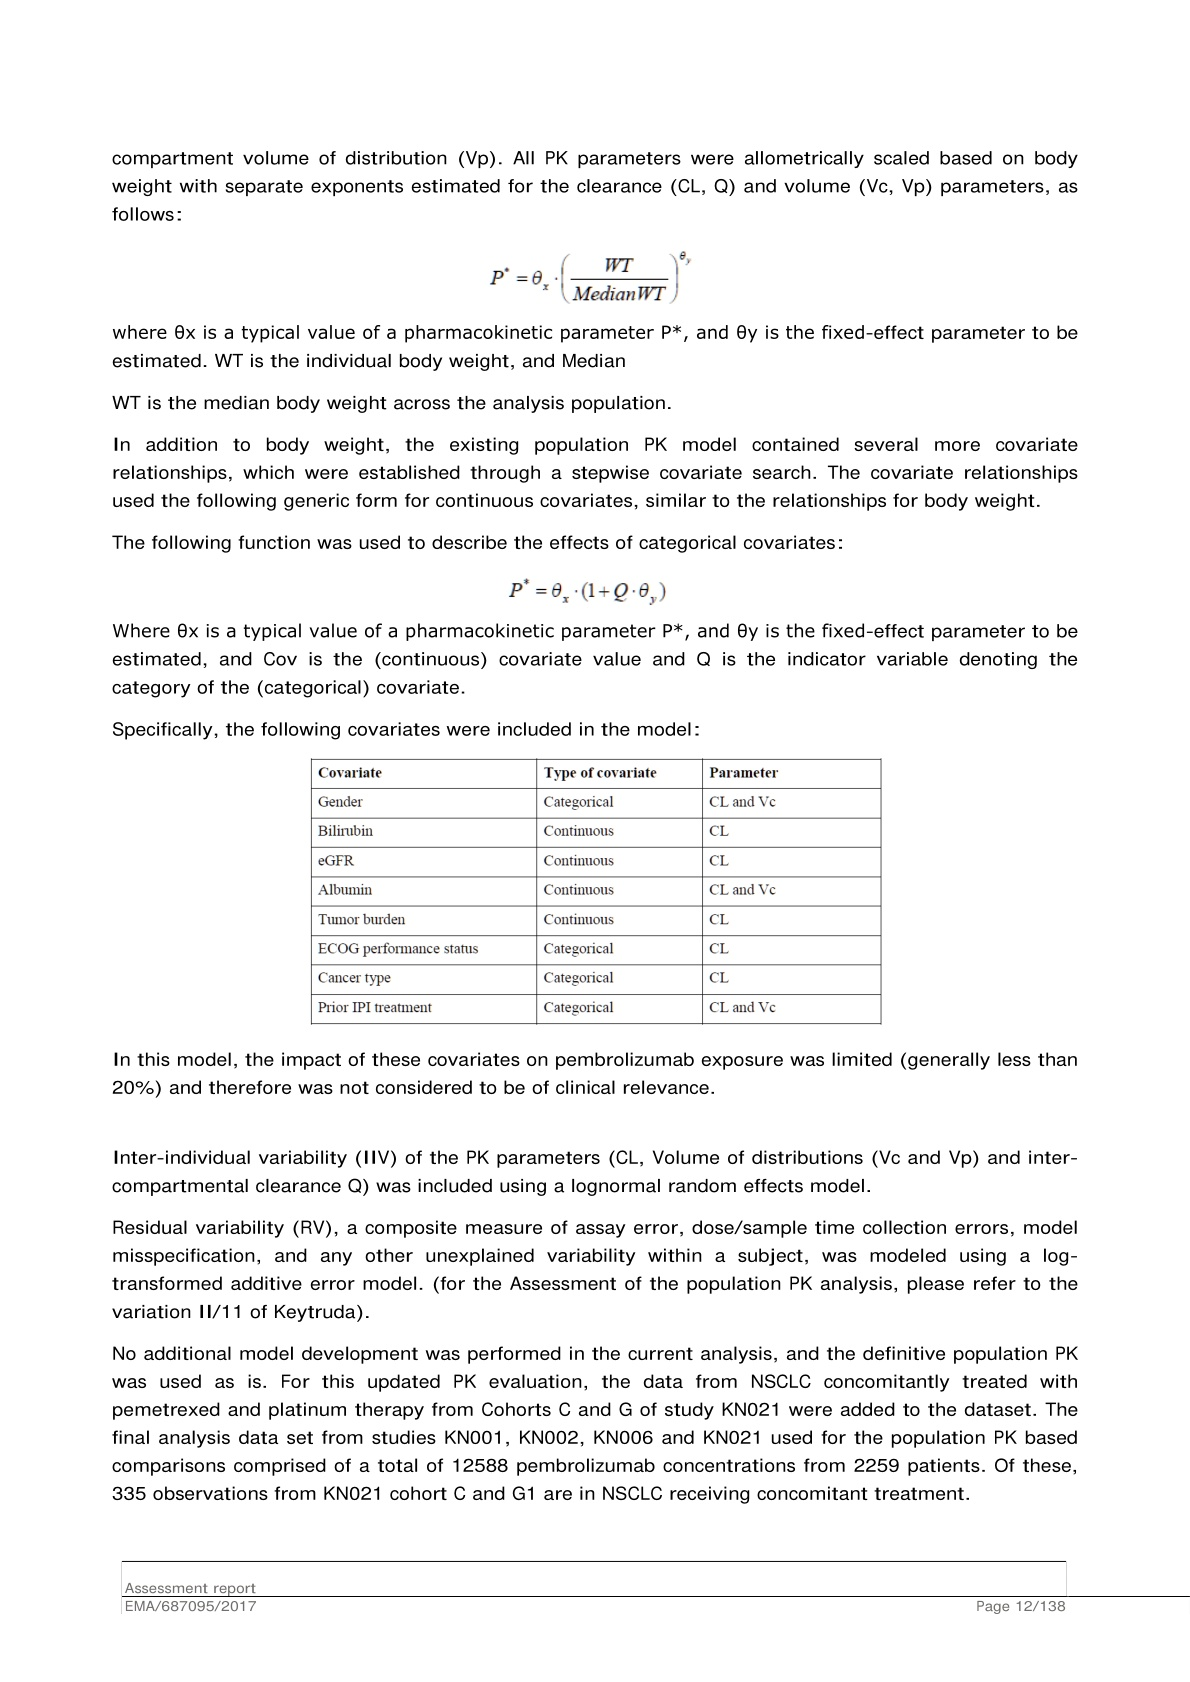full_lined: (310, 757, 883, 1025)
